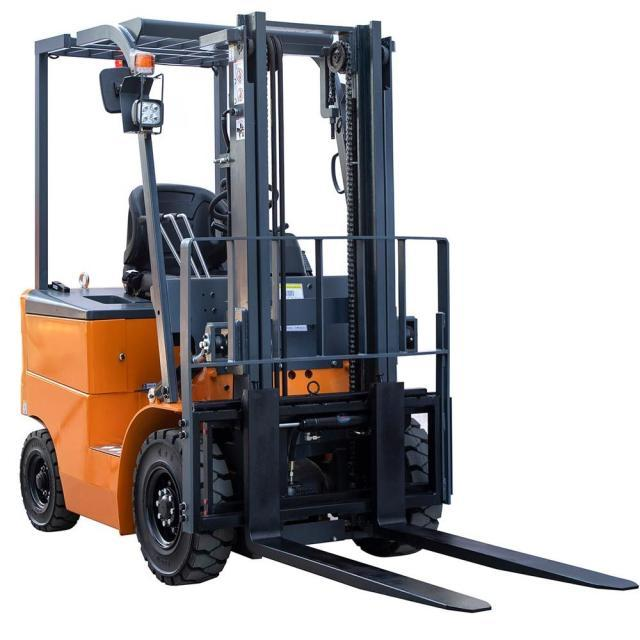forklift: (14, 12, 468, 599)
